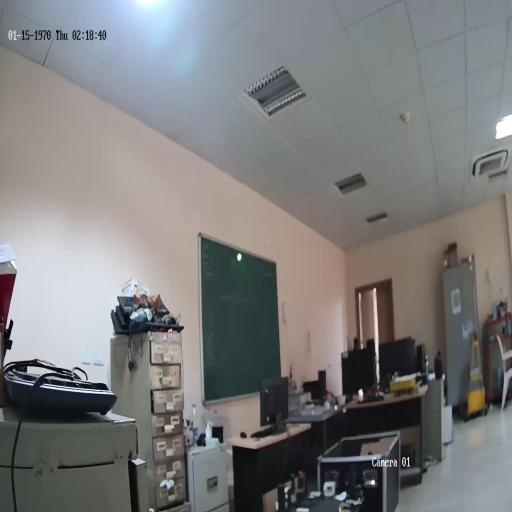laser: (236, 250, 242, 264)
